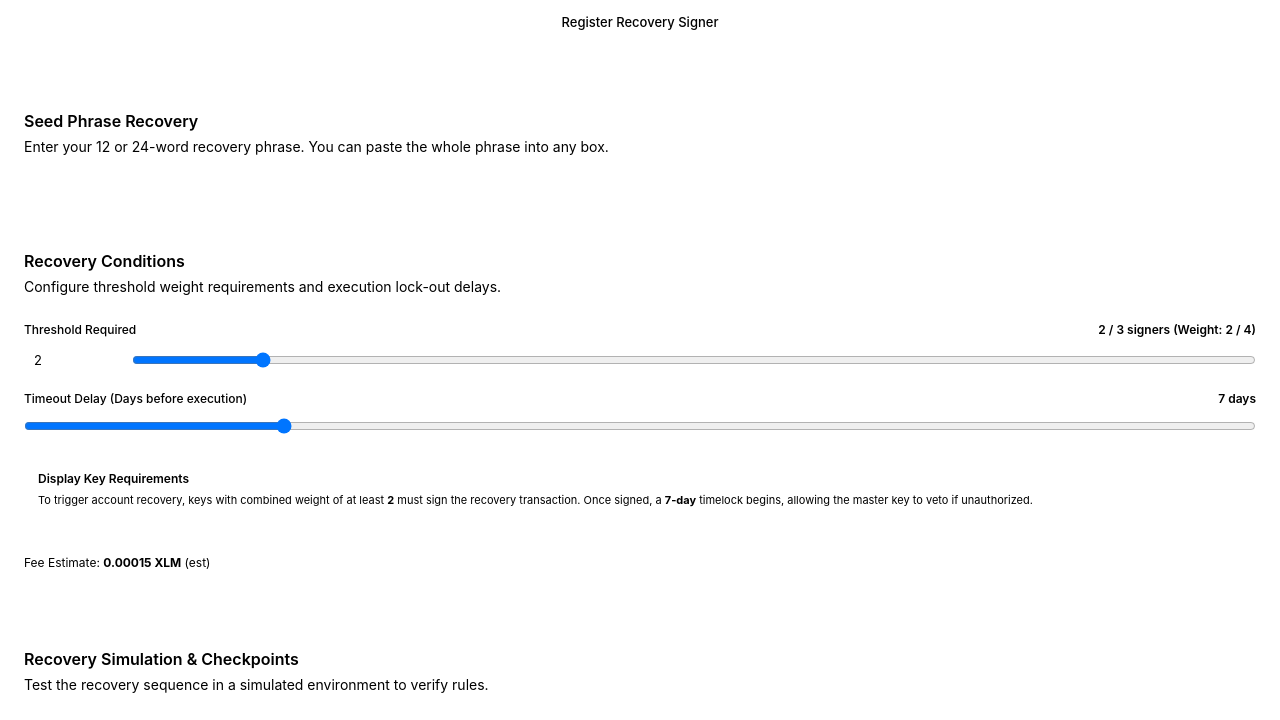
Test: RecoveryScreen › Threshold validation (Issue #1142) › validates that threshold cannot exceed total signer count
(page scrolled)
# Set threshold to 10 with only 3 signers
Replace the text in the number field with test id "threshold-input" with "10" at (72, 360), box [24,346,120,374]
(page scrolled)
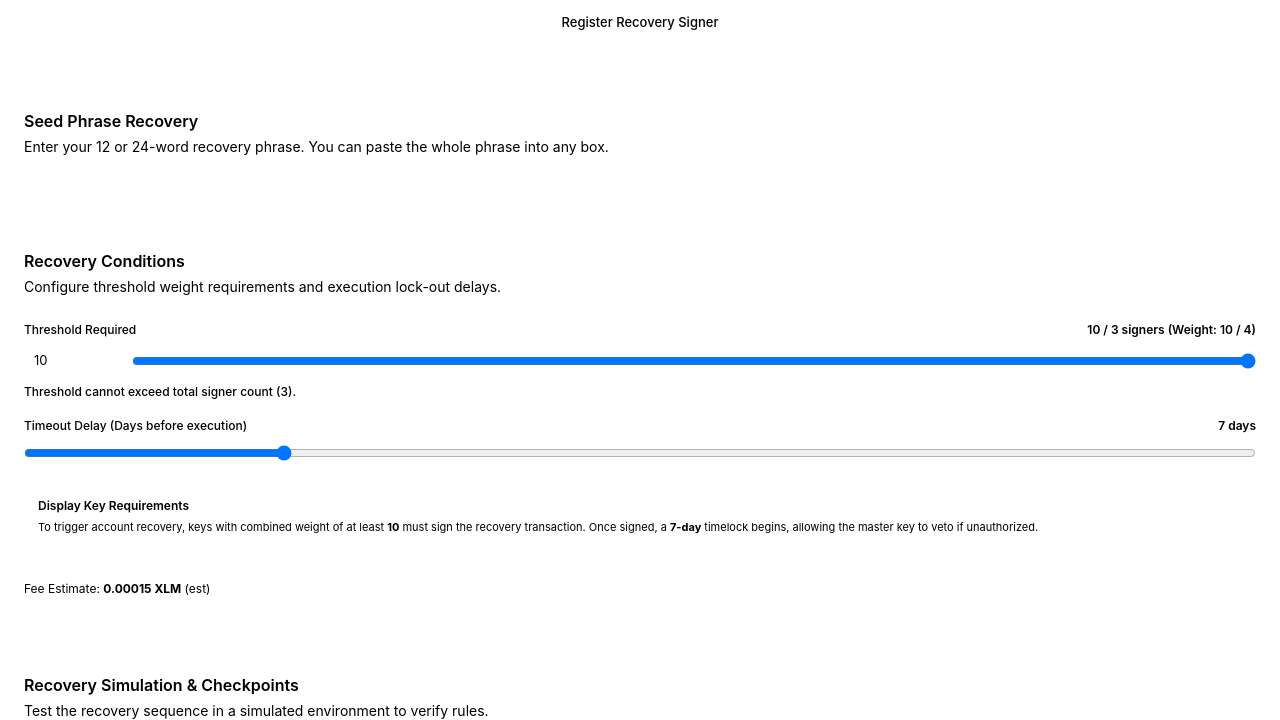
Now the message with test id "threshold-error" shows "Threshold cannot exceed total signer count (3)", box [24,384,296,398]
Replace the text in the number field with test id "threshold-input" with "2" at (72, 361), box [24,347,120,374]
(page scrolled)
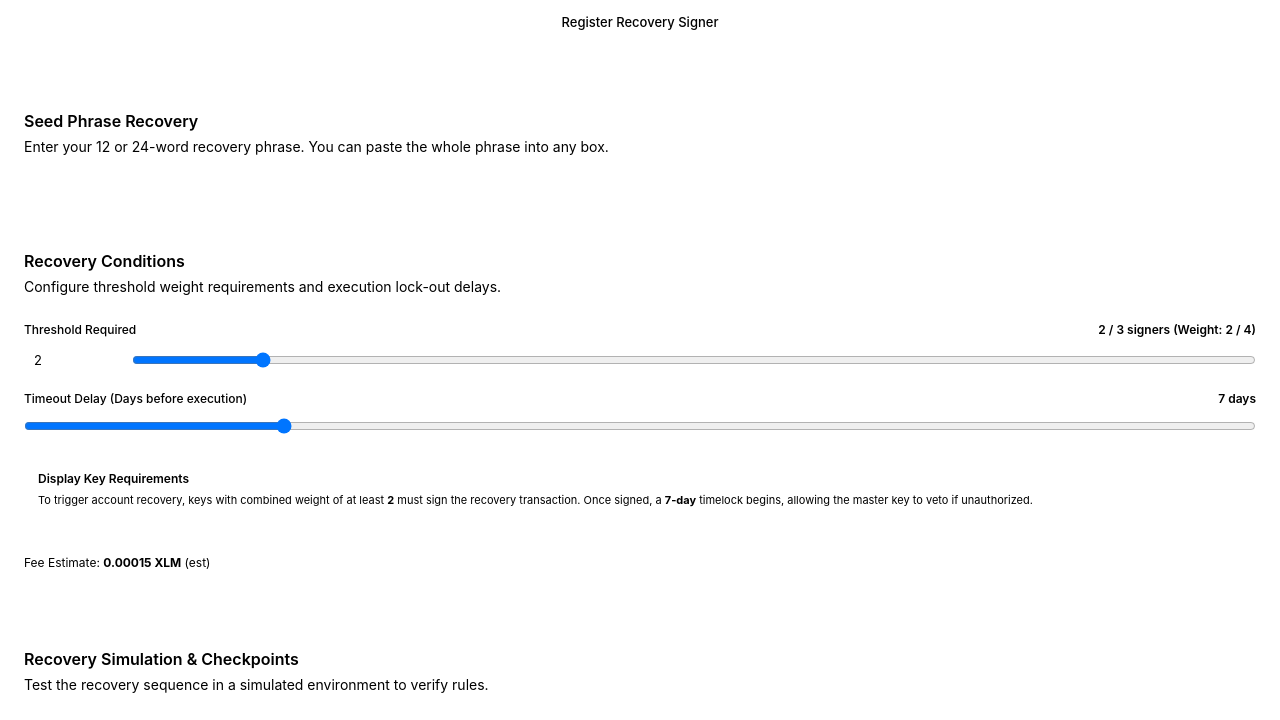
Now the message with test id "threshold-error" is gone
